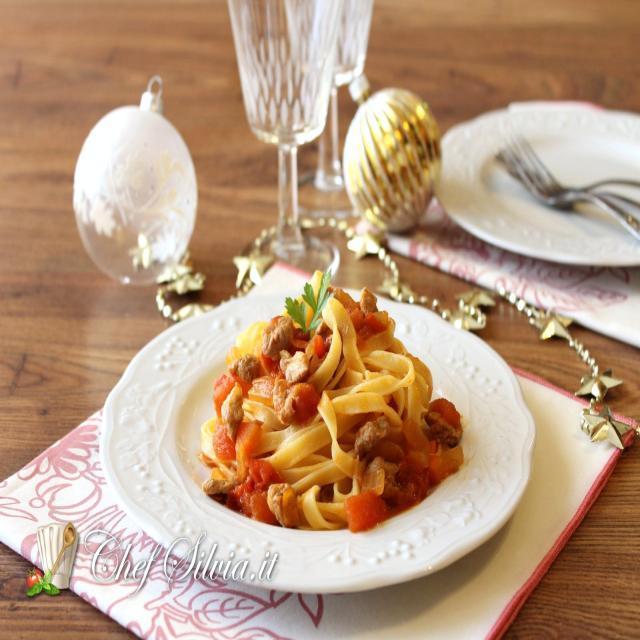Pasta al ragu: (148, 272, 537, 561)
